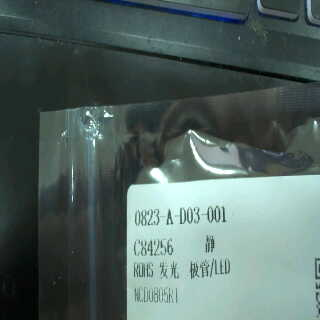LED: (158, 257, 236, 281)
